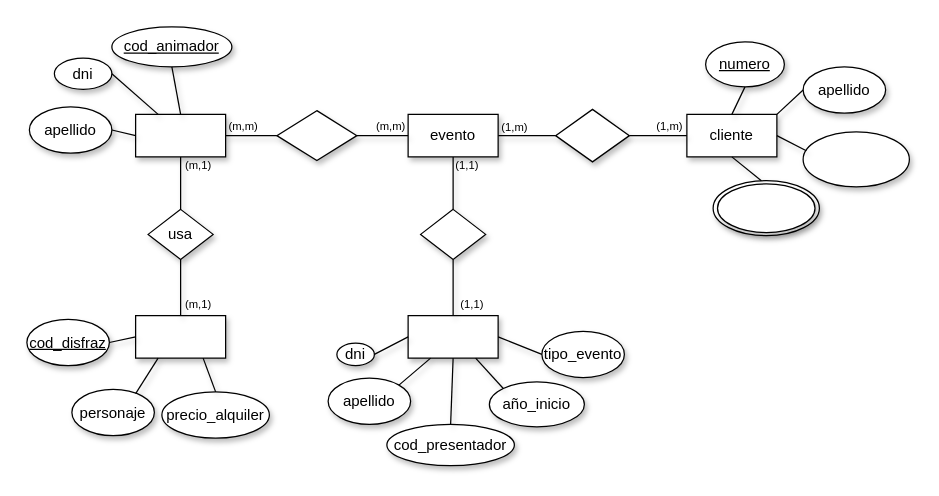
Some shapes in this 939 by 496 pixel diagram are drawn without their labels. Here are the shapes that lost their labels. From the top down, the centre of each, then its label:
At point 181,137: "animador".
At point 317,136: "participa".
At point 593,137: "contrata".
At point 857,161: "domicilio_legal".
At point 766,209: "telefono".
At point 453,235: "tiene".
At point 181,338: "disfraz".
At point 454,338: "presentador".
